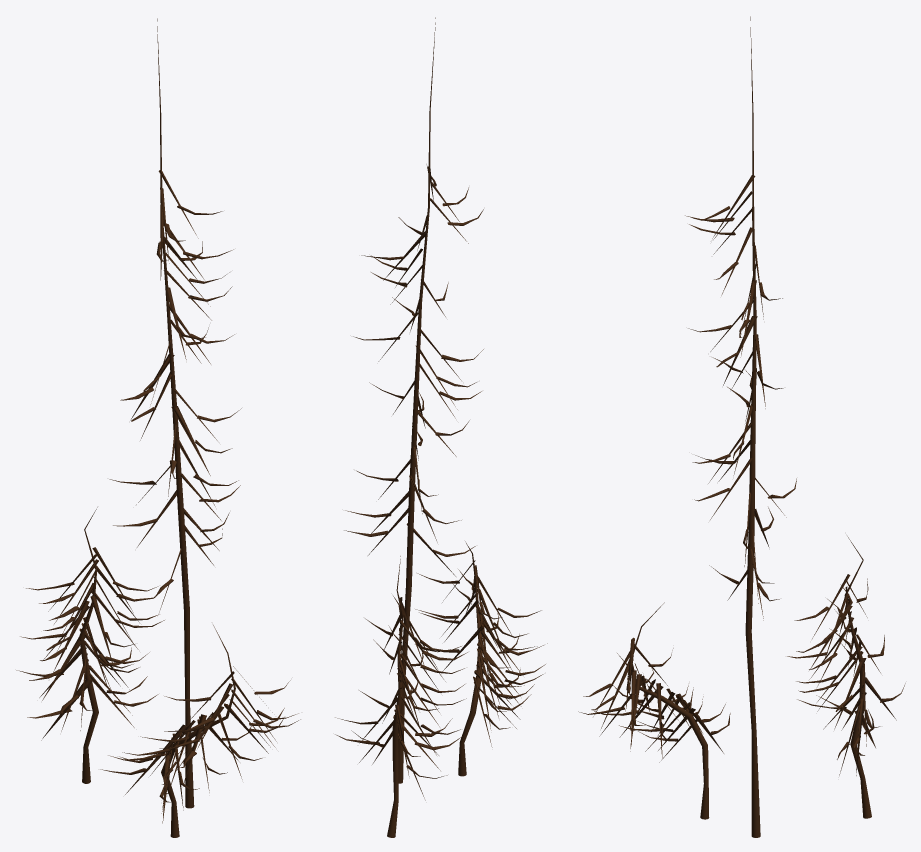
The model's file is koks10mesh.fbx.
3 views of the same model, side by side, from view 1: azimuth 30°, elevation 25°; view 2: azimuth 150°, elevation 25°; view 3: azimuth 270°, elevation 25° (orthographic). The views are drawn at different scales.
Visible parts, largest first — view 1: Koks4.002; view 2: Koks4.002; view 3: Koks4.002.
Part boxes in pixels (left/top/right/bottom): Koks4.002: left=16, top=18, right=300, bottom=837; Koks4.002: left=335, top=17, right=547, bottom=837; Koks4.002: left=578, top=16, right=905, bottom=837.
Bounding box in the file's own units: 8.45 × 39.31 × 14.49.
